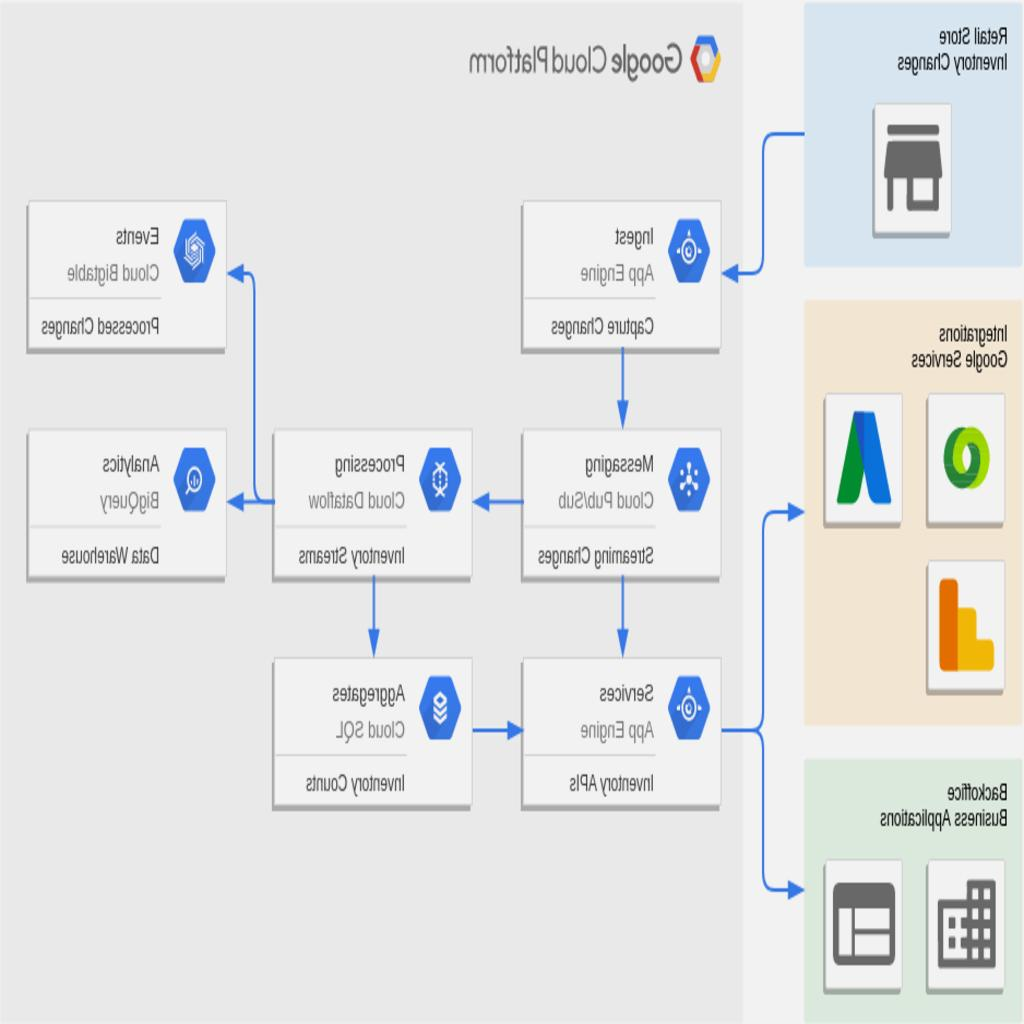actor: (864, 102, 964, 236), (928, 394, 1006, 528), (826, 394, 904, 528), (928, 560, 1006, 693), (928, 857, 1006, 990), (826, 857, 904, 990)
api_gateway: (521, 430, 722, 578)
compute: (521, 202, 722, 350), (272, 430, 473, 578), (521, 658, 722, 806)
data_flow: (742, 507, 786, 886), (722, 134, 806, 276), (254, 276, 258, 502), (423, 730, 521, 734), (619, 350, 624, 428), (619, 581, 624, 658), (370, 581, 375, 658), (232, 274, 280, 279), (786, 888, 824, 894), (474, 502, 521, 506), (786, 510, 824, 514), (232, 502, 268, 506)
database_storage: (272, 658, 473, 806), (28, 202, 228, 350), (28, 430, 228, 578)
trust_boundary: (0, 5, 745, 1019), (803, 300, 1024, 724), (803, 0, 1024, 266), (803, 758, 1024, 1024)
